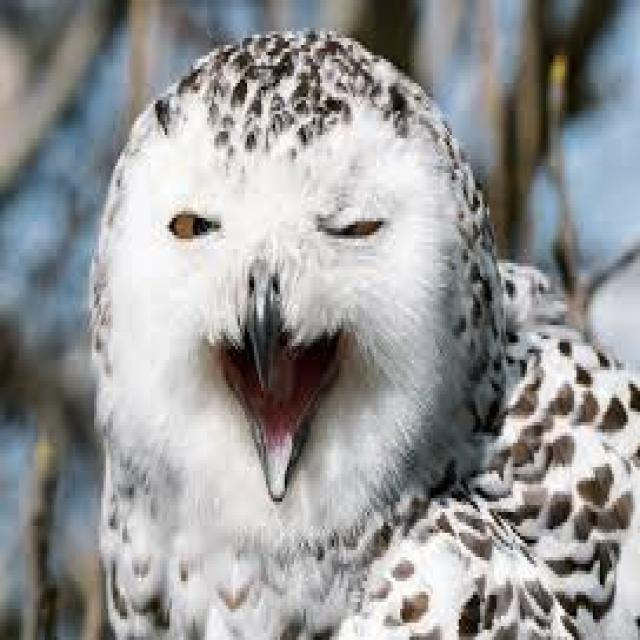snowy owl: (36, 40, 619, 598)
